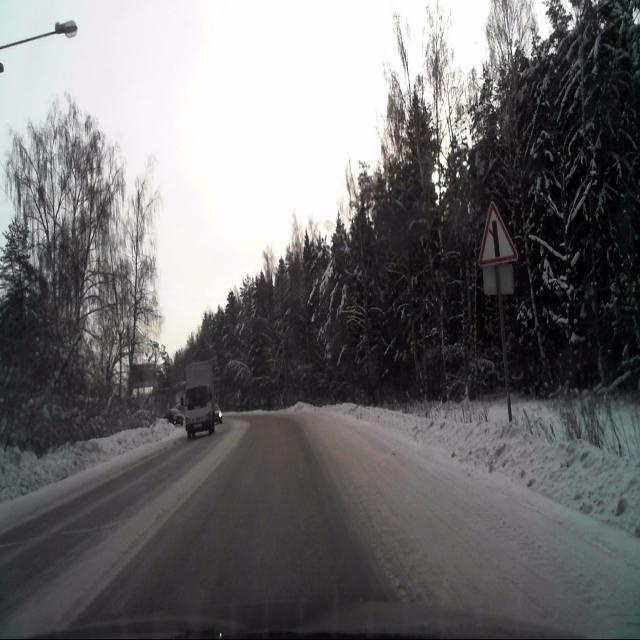road sign: (494, 267, 514, 424), (478, 201, 518, 265)
